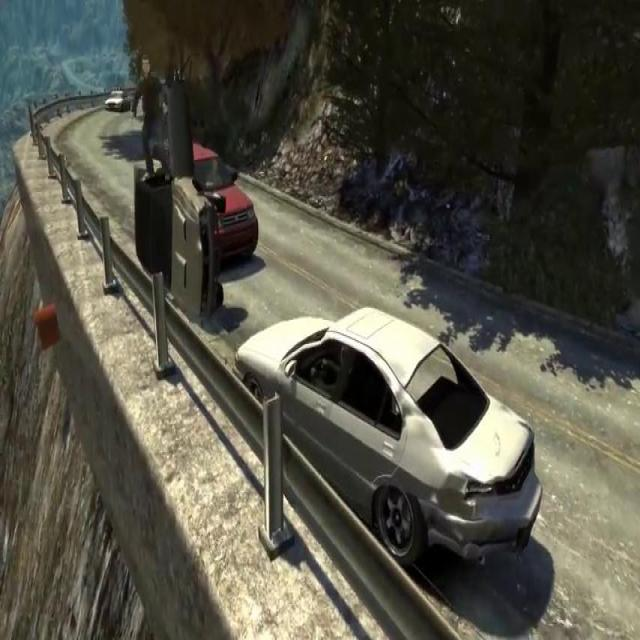severe: (130, 70, 230, 330)
